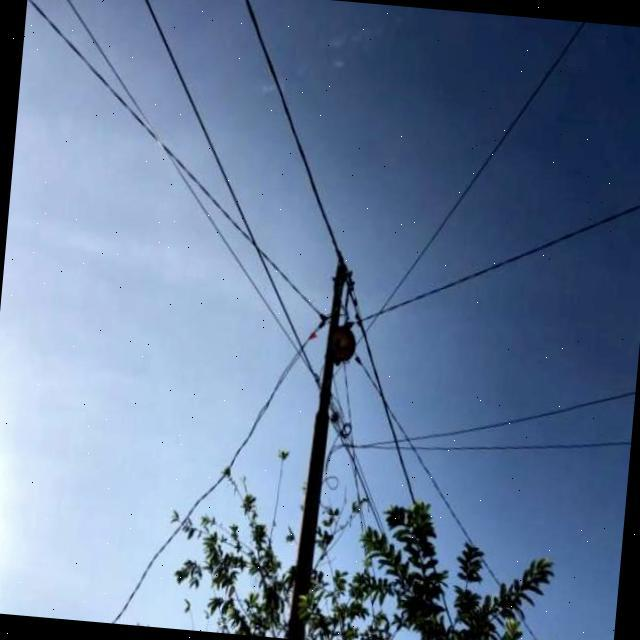critical vegetation: (278, 253, 372, 640), (263, 506, 366, 639)
